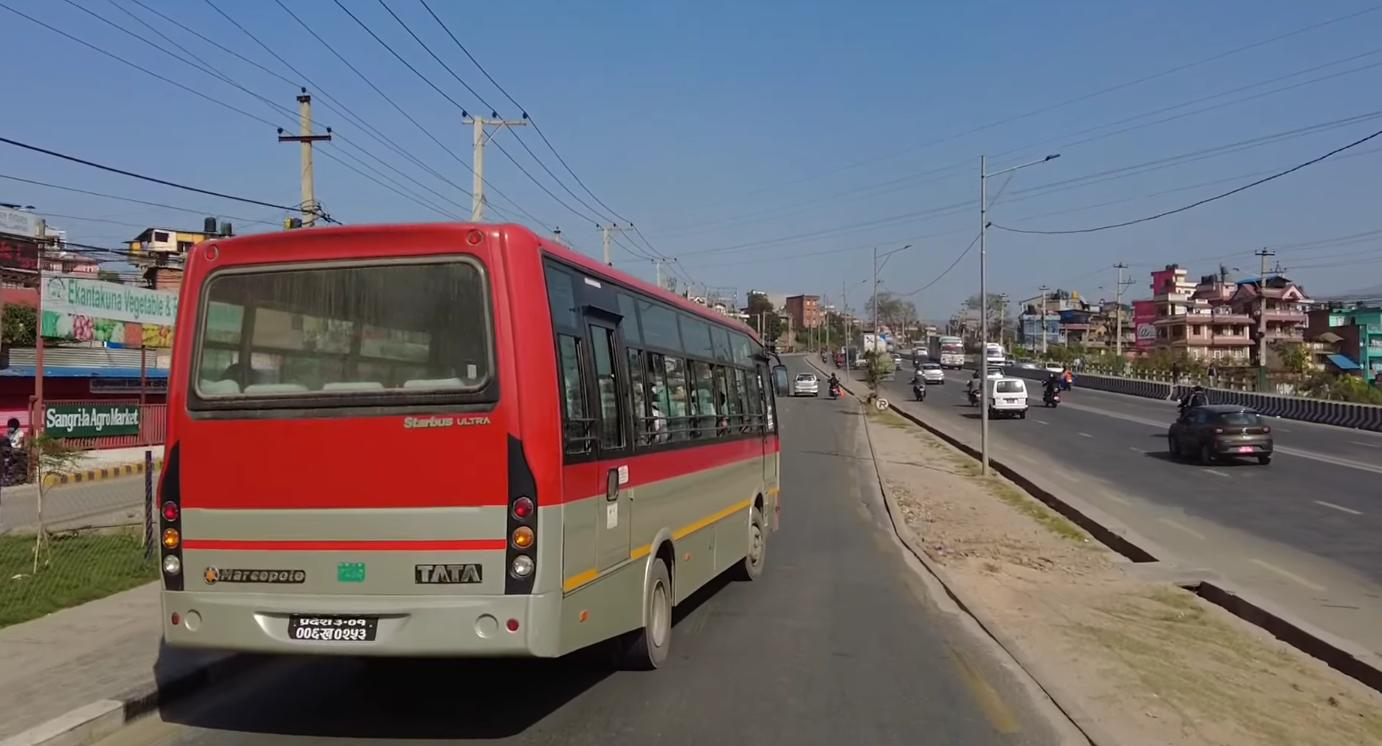bus: (148, 212, 790, 668), (929, 329, 969, 369)
car: (1165, 398, 1275, 470)
van: (984, 371, 1031, 419)
